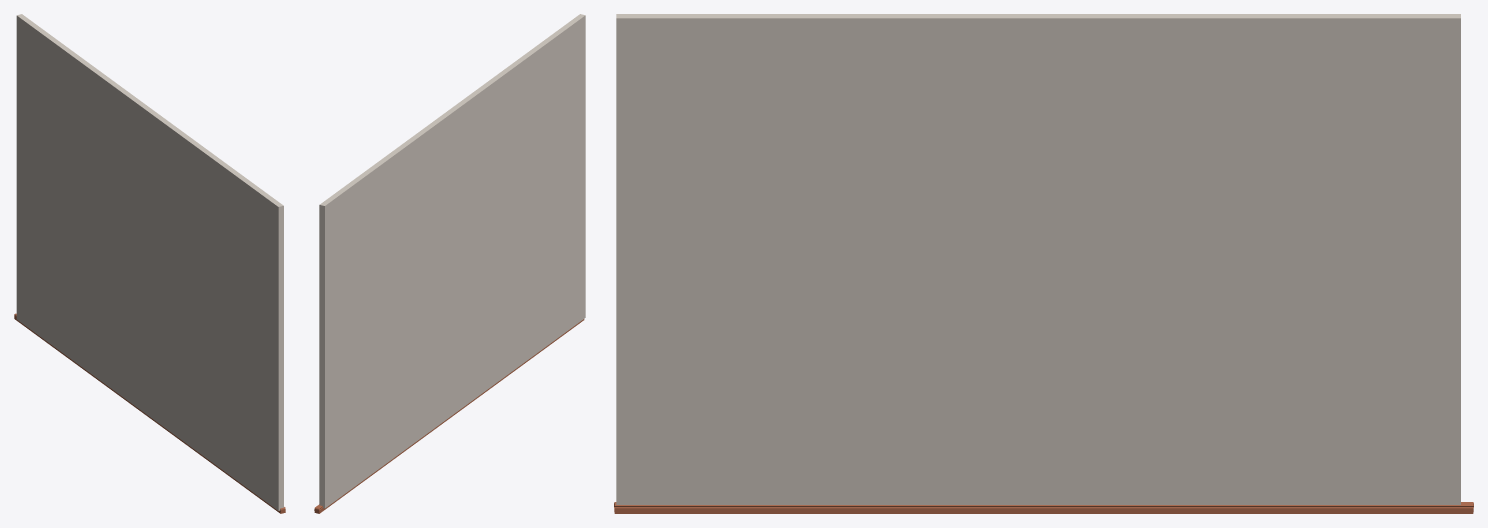
File: Parede.fbx
3 views of the same model, side by side, from view 1: azimuth 30°, elevation 25°; view 2: azimuth 150°, elevation 25°; view 3: azimuth 270°, elevation 25° (orthographic). The views are drawn at different scales.
Visible parts, largest first — view 1: Cube.006, Cube.042; view 2: Cube.006, Cube.042; view 3: Cube.006, Cube.042.
Part boxes in pixels (x1,y1,x2,y2): Cube.006: (16, 14, 283, 510); Cube.042: (14, 313, 285, 513); Cube.006: (319, 14, 585, 508); Cube.042: (314, 319, 584, 513); Cube.006: (616, 14, 1460, 504); Cube.042: (614, 502, 1473, 513).
Bounding box in the file's own units: 11.73 × 528 × 831.
